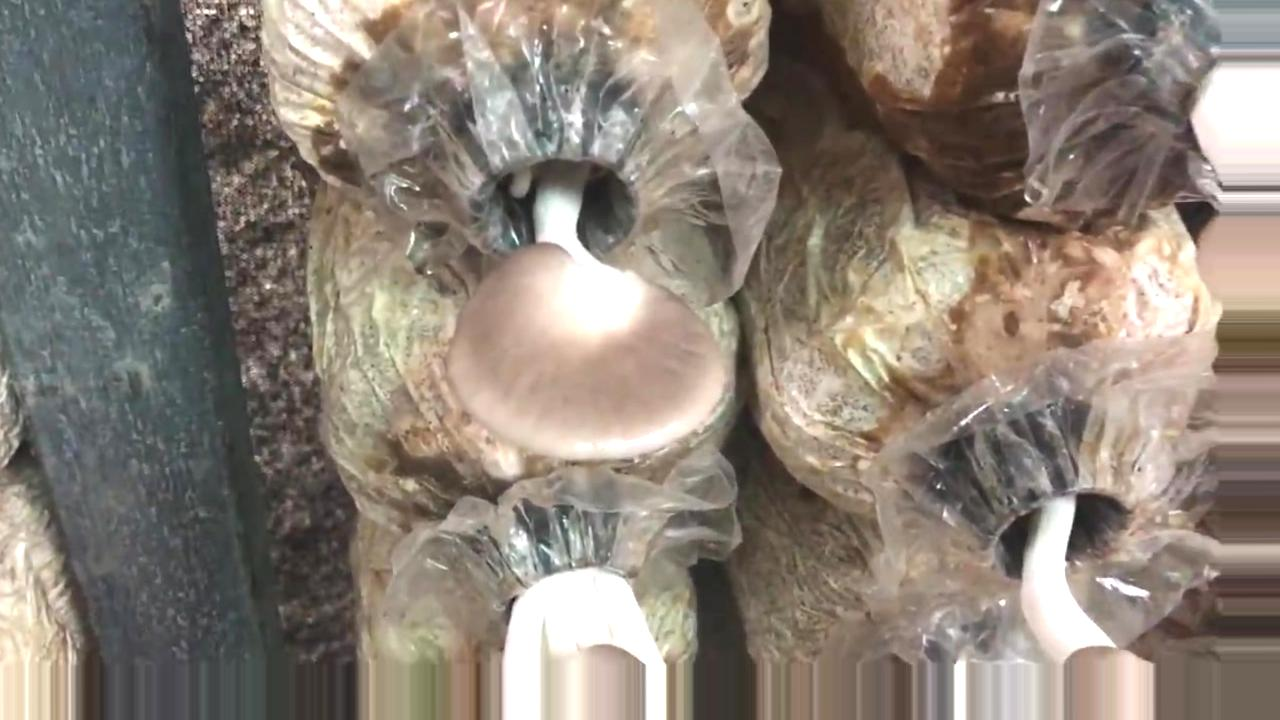nam: (445, 95, 728, 464)
